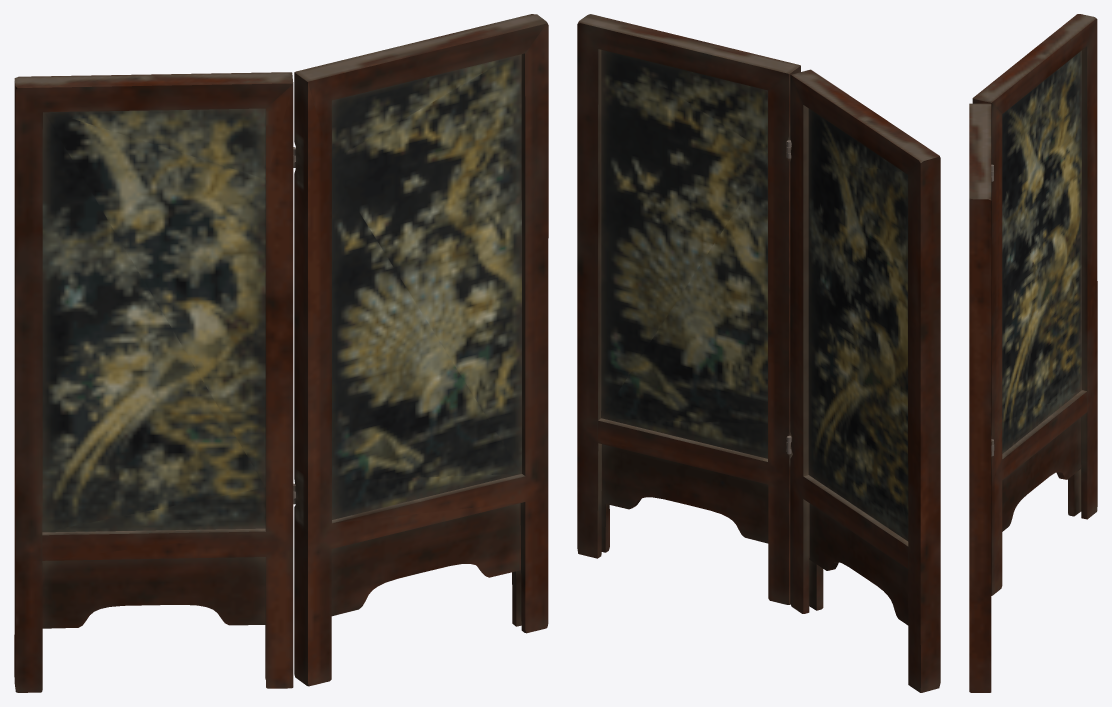
The model's file is screen_folding.glb.
3 renders of one model, left to right at view 1: azimuth 30°, elevation 25°; view 2: azimuth 150°, elevation 25°; view 3: azimuth 270°, elevation 25°, orthographic. The views are drawn at different scales.
Visible parts, largest first — view 1: mesh; view 2: mesh; view 3: mesh.
Boxes of the visible parts, bbox=[...] form: mesh: bbox=[14, 14, 548, 692]; mesh: bbox=[577, 14, 940, 692]; mesh: bbox=[969, 14, 1097, 692].
Size of the model in its own units: 1.29 by 1.6 by 0.3769.
Materials: 1 (1 with a texture image).
